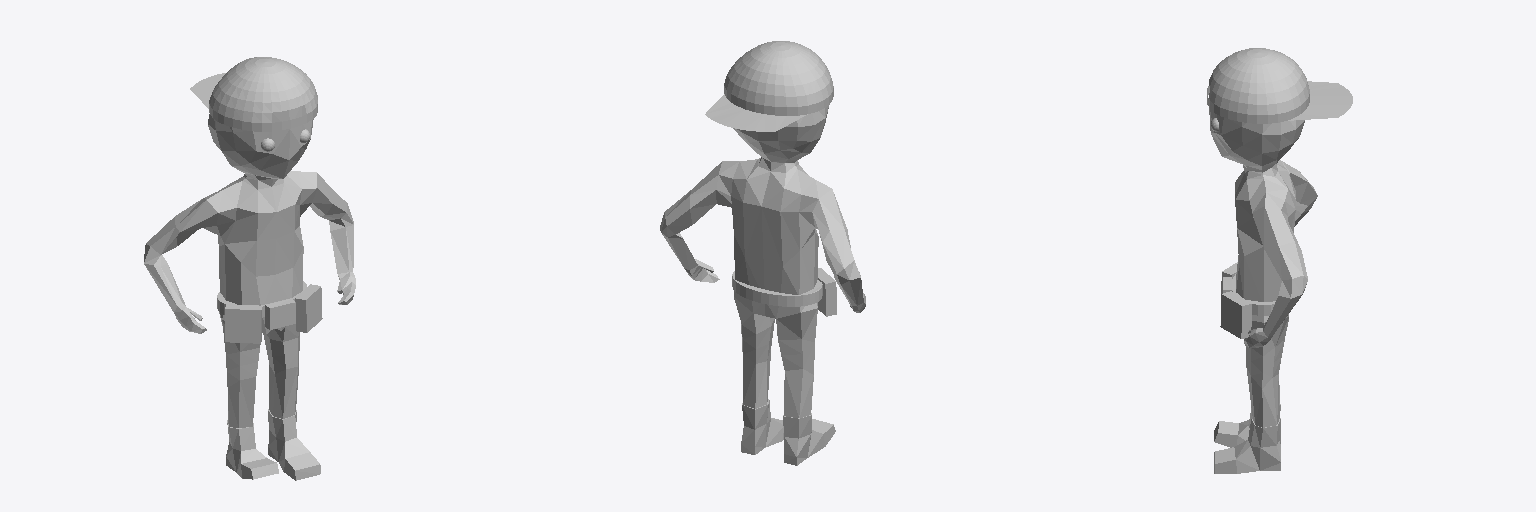
File: Main_Character_Idle_3.obj
The picture shows the model from 3 angles: view 1: azimuth 30°, elevation 25°; view 2: azimuth 150°, elevation 25°; view 3: azimuth 270°, elevation 25°; orthographic projection.
Parts seen in each view (by area): view 1: Main_Character_Test.003_Main_Character_Test.004; view 2: Main_Character_Test.003_Main_Character_Test.004; view 3: Main_Character_Test.003_Main_Character_Test.004.
Part boxes in pixels (x1,y1,x2,y2): Main_Character_Test.003_Main_Character_Test.004: (144, 57, 355, 480); Main_Character_Test.003_Main_Character_Test.004: (660, 41, 865, 465); Main_Character_Test.003_Main_Character_Test.004: (1207, 48, 1352, 473).
Size of the model in its own units: 2.11 by 3.98 by 1.31.